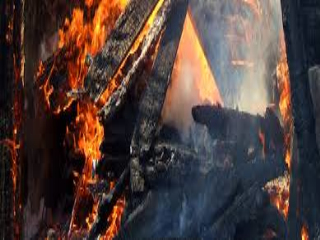fire: (32, 3, 128, 226), (147, 24, 236, 107), (266, 40, 299, 202)
